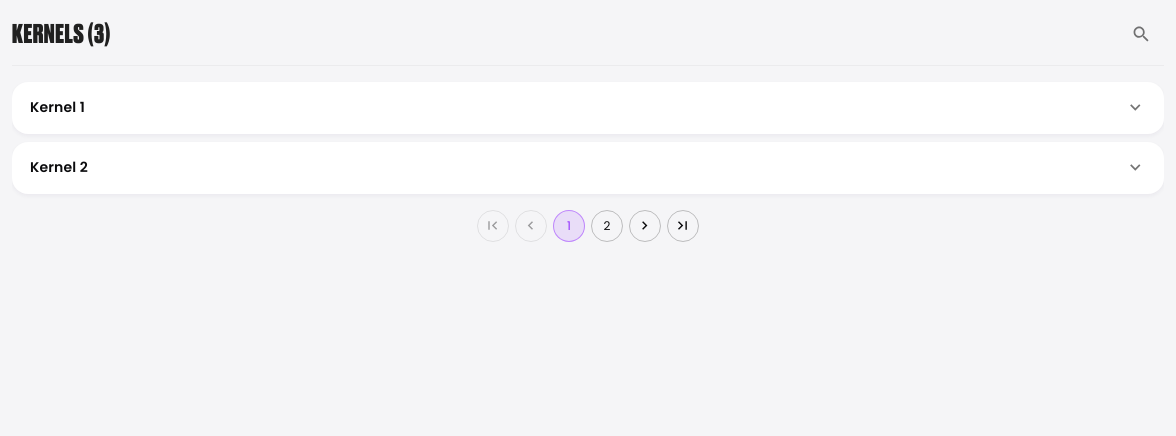
Scenario: Kernels › shows and hides search UI for kernels
This screenshot has width=1176, height=436.
Note: Click to show search
What coordinates should you click on to do the following:
click the button named "Show search"
I would click on:
 (1142, 34)
Its box is [1119, 12, 1164, 57].
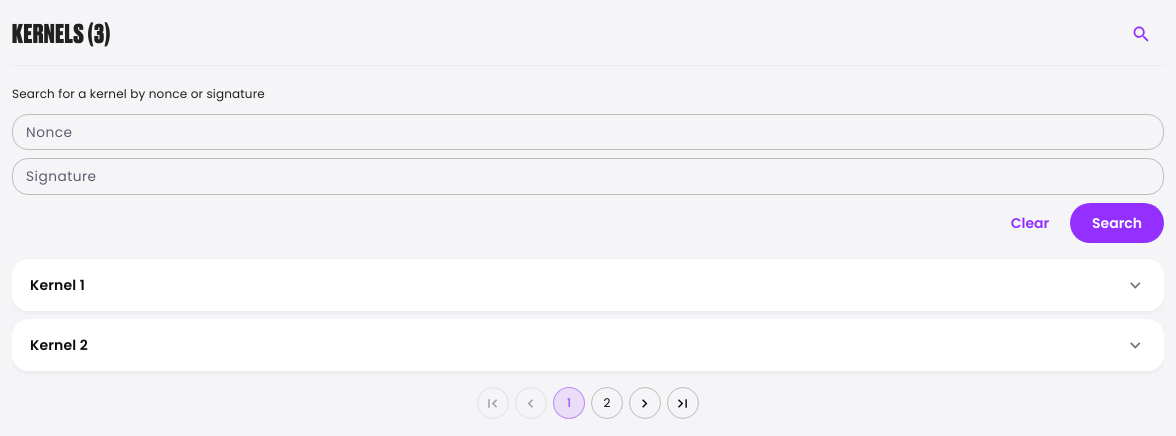
Expected: the text "Search for a kernel by nonce or signature" is shown, [12, 85, 265, 102]
Note: Click to hide search
What coordinates should you click on to do the following:
click the button named "Hide search"
I would click on:
 (1142, 34)
Its box is [1119, 12, 1164, 57].
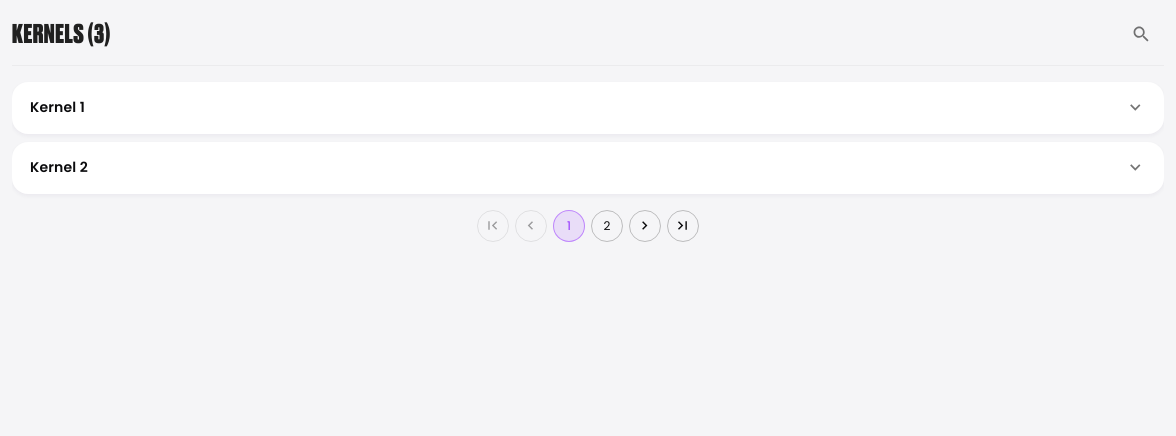
Expected: the text "Search for a kernel by nonce or signature" is gone
